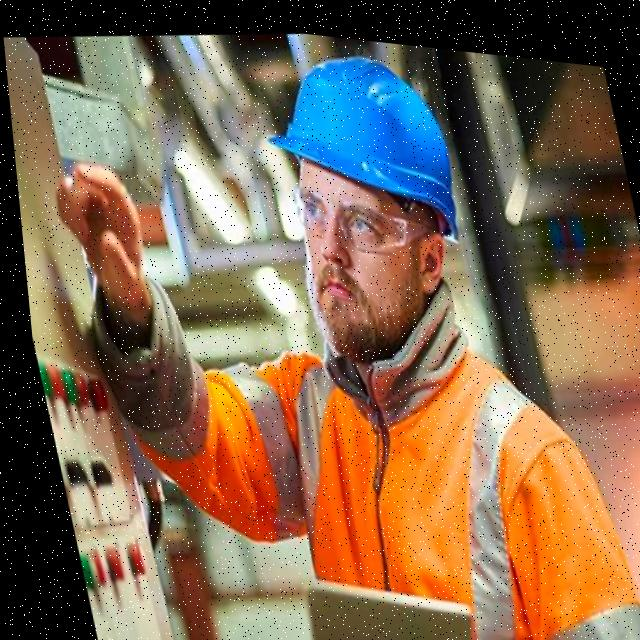illegal_helmet: (237, 21, 502, 388)
